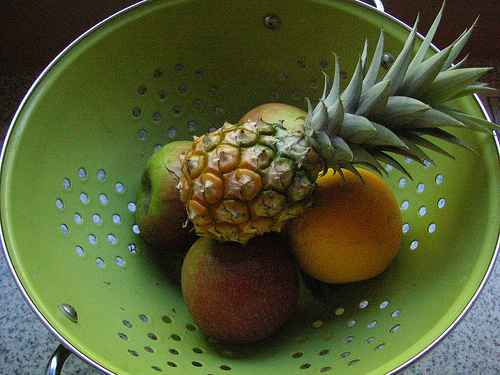pineapple: (174, 0, 499, 245)
